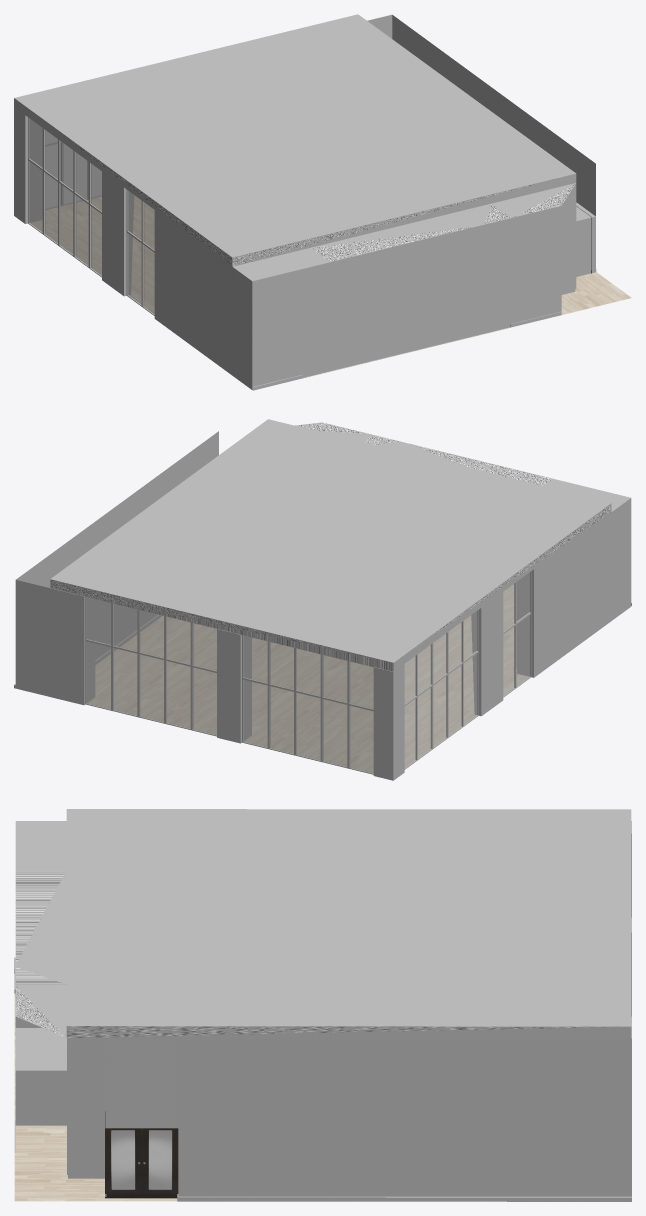
The model's file is SIMP.fbx.
3 views of the same model, one above another, from view 1: azimuth 30°, elevation 25°; view 2: azimuth 150°, elevation 25°; view 3: azimuth 270°, elevation 25° (orthographic). The views are drawn at different scales.
Visible parts, largest first — view 1: Roof, Wallls, Glass, Floor, Chrome; view 2: Roof, Wallls, Glass, Floor, Chrome; view 3: Roof, Wallls, Floor, Door.
Boxes of the visible parts, x1,y1,x2,y2 form: Roof: (14,14,576,266); Wallls: (14,14,596,390); Glass: (29,118,154,313); Floor: (31,195,631,377); Chrome: (28,117,154,315); Roof: (50,419,611,671); Wallls: (14,422,631,780); Glass: (86,572,529,773); Floor: (88,584,527,772); Chrome: (85,571,531,774); Roof: (66,809,631,1038); Wallls: (14,821,631,1201); Floor: (14,993,177,1201); Door: (105,1111,178,1198).
Bounding box in the file's own units: 2720 × 813 × 2961.
